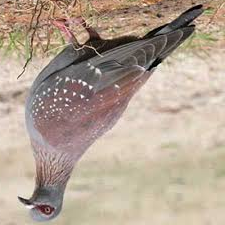pigeon: (15, 2, 208, 223)
